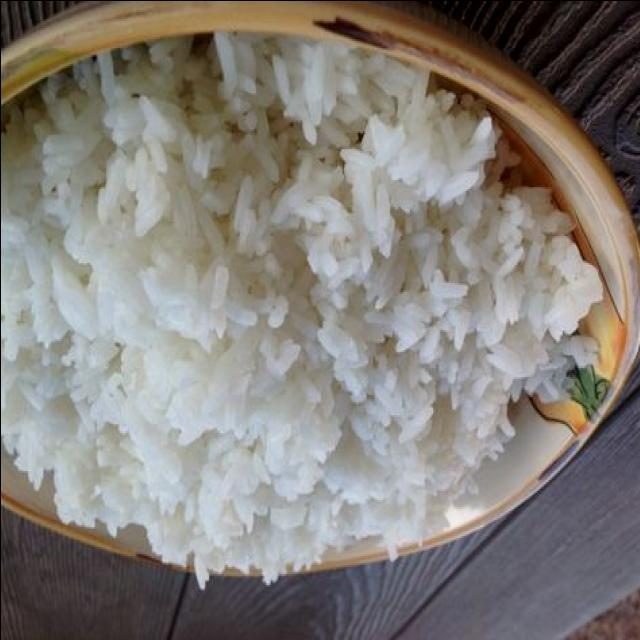nasi: (0, 29, 602, 579)
